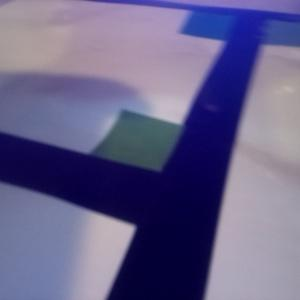bottom_left: (181, 10, 262, 41)
bottom_right: (238, 14, 299, 47)
top_left: (90, 108, 221, 212)
